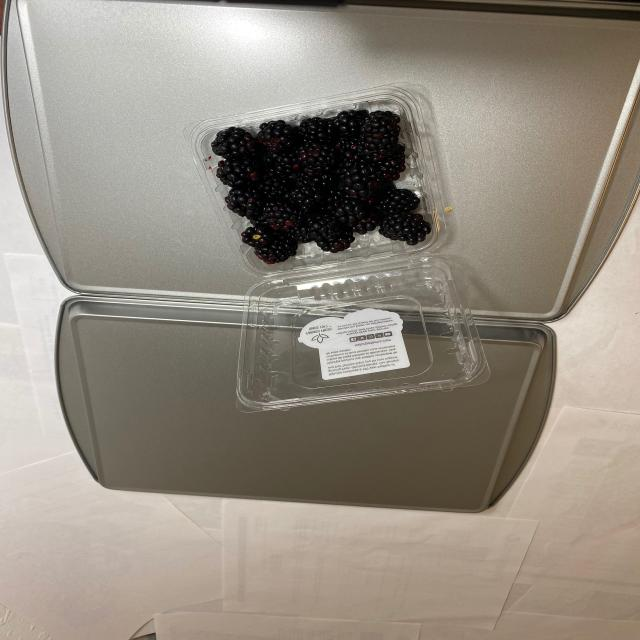blackberries: (210, 124, 446, 270)
